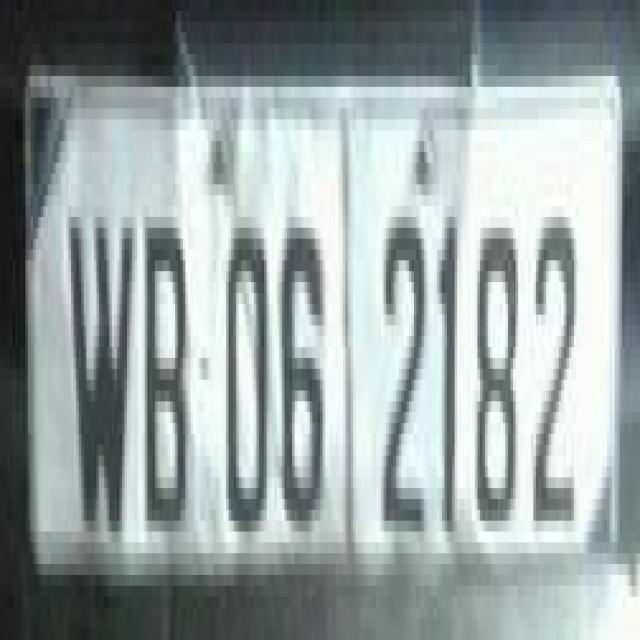license_plate: (20, 43, 640, 640)
